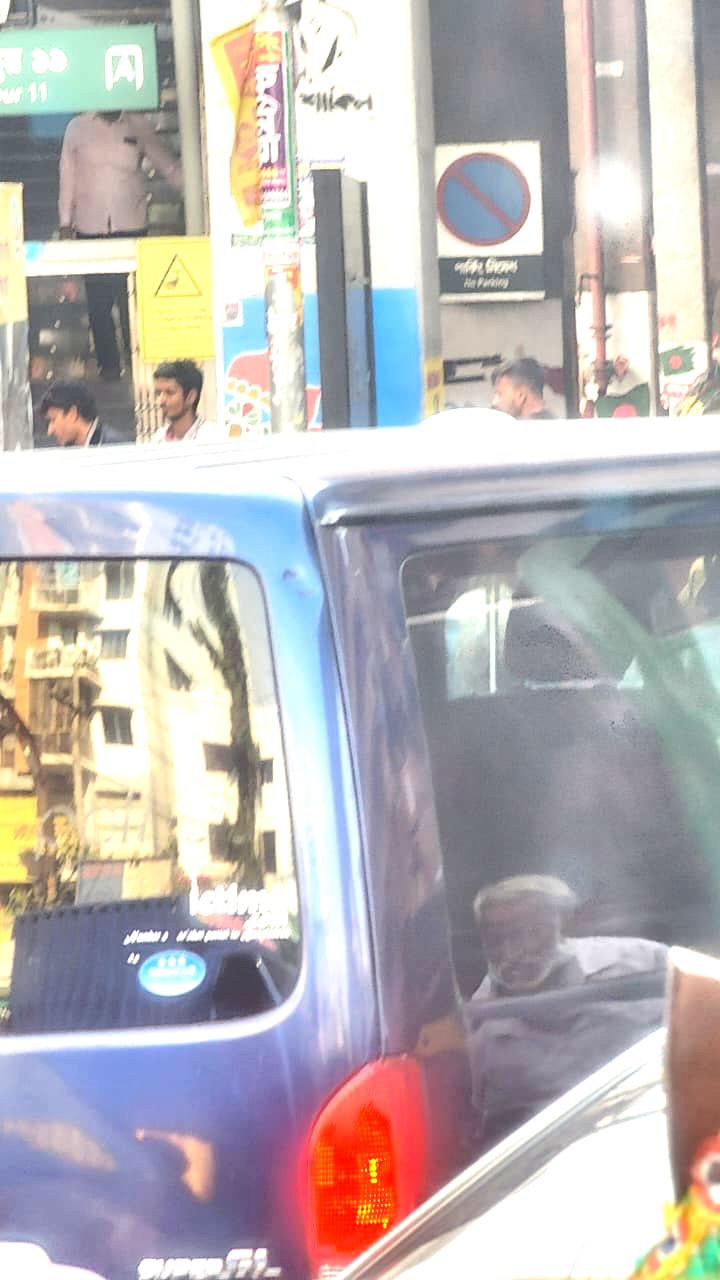No Parking: (414, 124, 570, 310)
